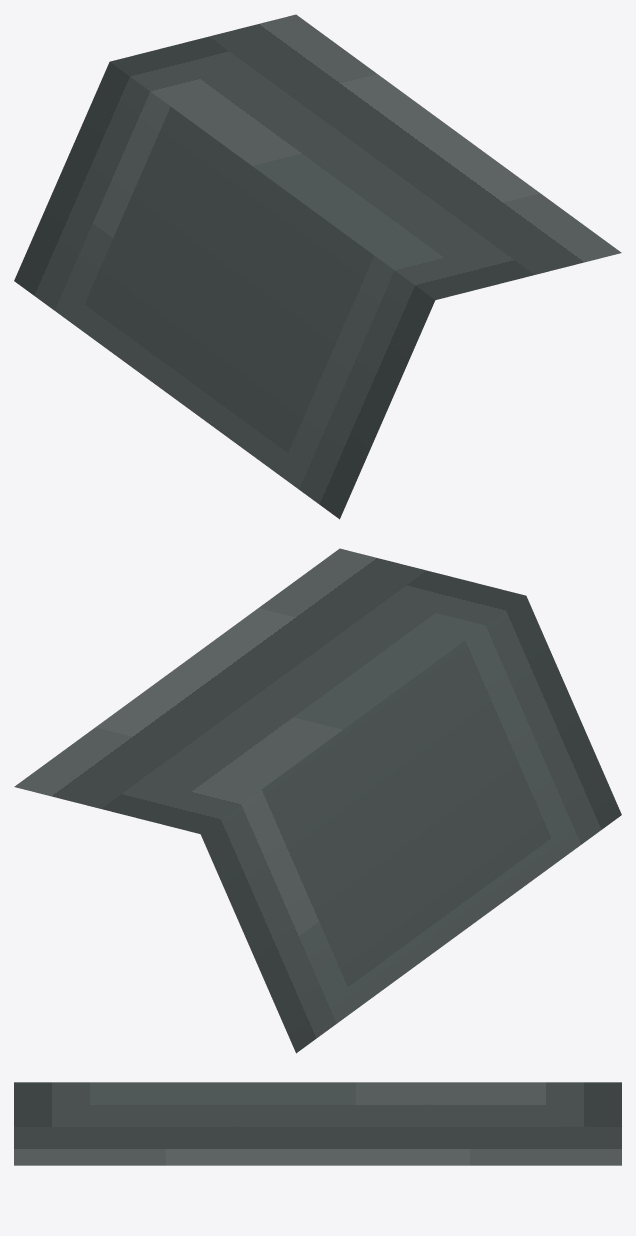
3 renders of one model, top to bottom at view 1: azimuth 30°, elevation 25°; view 2: azimuth 150°, elevation 25°; view 3: azimuth 270°, elevation 25°, orthographic. The views are drawn at different scales.
Bounding box in the file's own units: 0.5 × 0.3348 × 1.
1 material, 1 textured.
